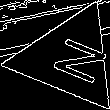N_NW: (35, 30, 103, 87)
